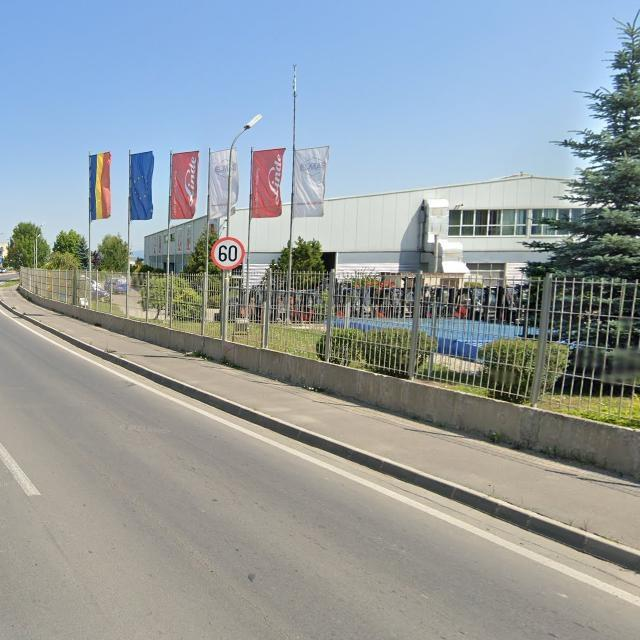forb_speed_over_60: (211, 237, 244, 270)
